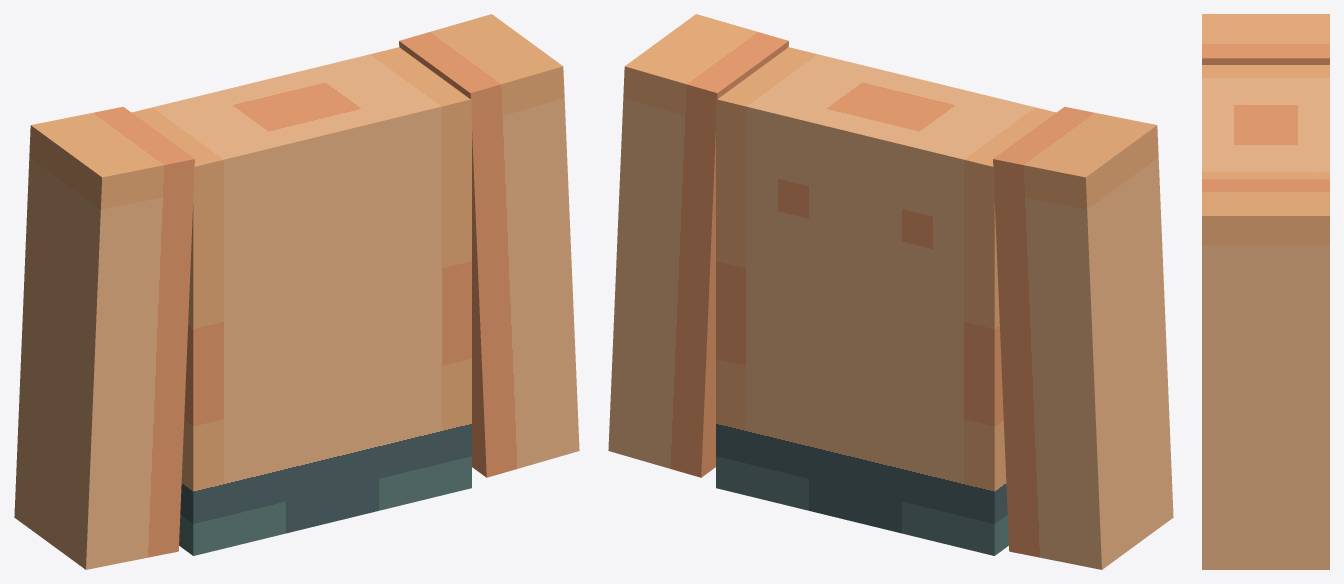
File: torso.gltf
The picture shows the model from 3 angles, left to right: view 1: azimuth 30°, elevation 25°; view 2: azimuth 150°, elevation 25°; view 3: azimuth 270°, elevation 25°; orthographic projection. The views are drawn at different scales.
Visible parts, largest first — view 1: torso, armLeft, armRight; view 2: torso, armLeft, armRight; view 3: armRight, torso, armLeft.
Part boxes in pixels (x1,y1,x2,y2): torso: (131, 47, 471, 555); armLeft: (14, 106, 194, 569); armRight: (399, 14, 579, 477); torso: (716, 47, 1056, 555); armLeft: (993, 106, 1173, 569); armRight: (608, 14, 788, 477); armRight: (1202, 179, 1329, 569); torso: (1202, 65, 1329, 179); armLeft: (1202, 14, 1329, 64).
Bounding box in the file's own units: 0.9961 × 0.7731 × 0.25.
1 material, 1 textured.
